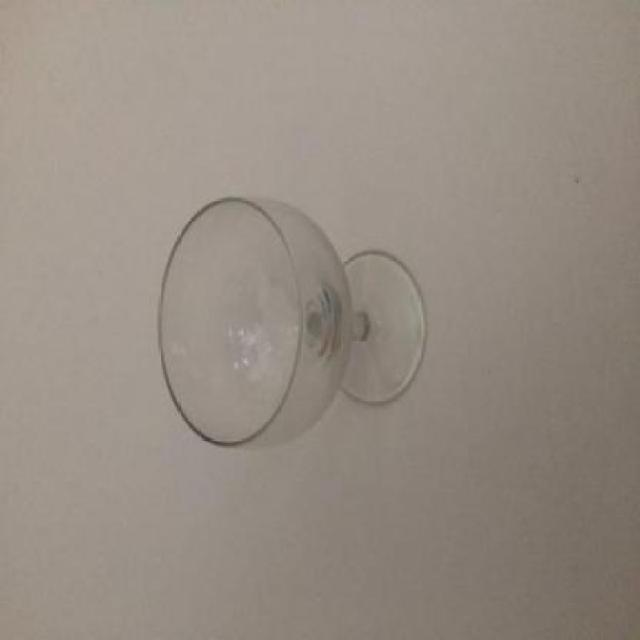kaca: (159, 196, 426, 447)
